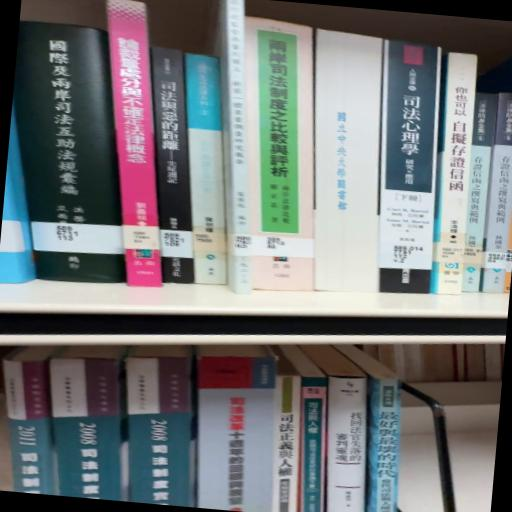backward: (292, 28, 398, 294)
book: (0, 17, 141, 285), (82, 0, 189, 289), (225, 14, 331, 240), (358, 38, 450, 297), (130, 48, 209, 286), (170, 50, 248, 287), (426, 50, 482, 300), (313, 372, 376, 512), (356, 375, 409, 512), (292, 377, 337, 512)
